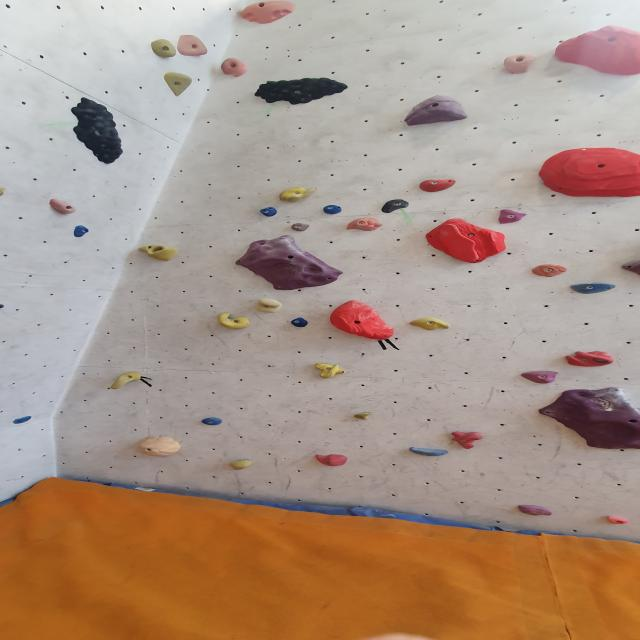Crimp: (508, 368, 564, 385), (562, 280, 627, 294), (414, 178, 466, 193), (401, 318, 456, 332), (515, 503, 557, 519), (496, 207, 530, 225), (528, 263, 570, 277), (408, 446, 448, 459), (283, 316, 318, 330), (255, 206, 283, 219), (342, 411, 378, 421), (318, 204, 350, 215), (609, 512, 631, 526), (70, 225, 90, 240), (200, 416, 227, 426), (10, 416, 34, 426), (286, 222, 315, 230)
Jug: (64, 94, 128, 168), (249, 76, 351, 103), (175, 32, 212, 58), (164, 69, 197, 98), (446, 429, 484, 452), (312, 362, 349, 384), (250, 296, 287, 317), (216, 310, 254, 330), (108, 370, 146, 390), (150, 36, 180, 60), (221, 56, 248, 79)
Pinch: (492, 53, 539, 76), (44, 197, 84, 216), (278, 185, 317, 203)
Pocket: (555, 349, 618, 369), (138, 242, 182, 262)
Sloper: (229, 237, 346, 293), (530, 144, 638, 197), (551, 22, 640, 78), (424, 216, 513, 264), (399, 95, 471, 128), (236, 0, 299, 25), (137, 436, 184, 460), (308, 450, 348, 467), (345, 216, 385, 232), (228, 459, 257, 471)
